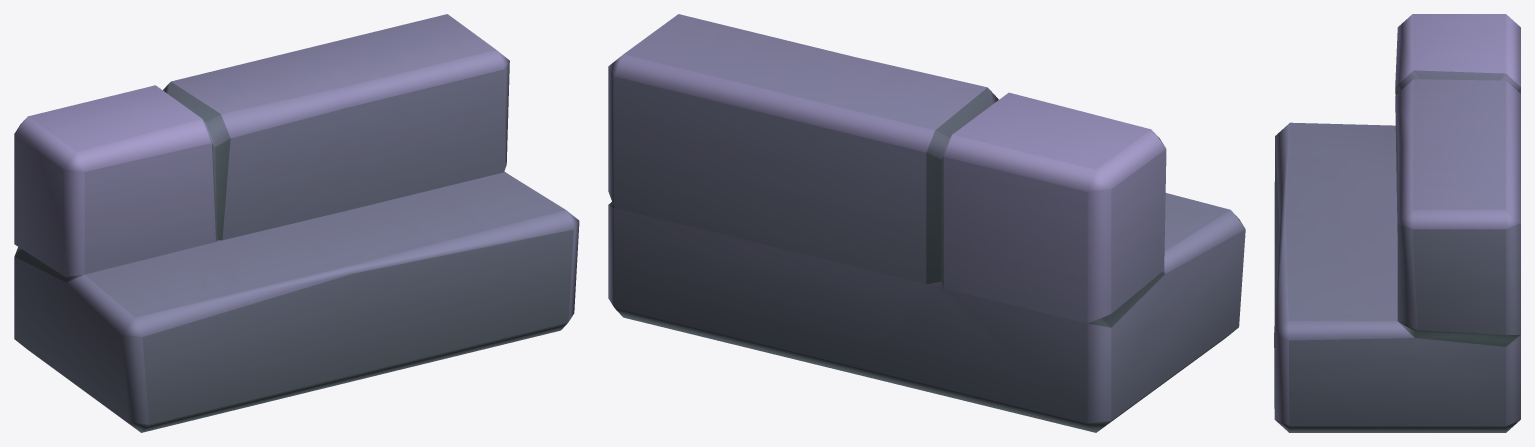
Rendered from undead_stairs_half_2_shade_1.fbx.
3 renders of one model, left to right at view 1: azimuth 30°, elevation 25°; view 2: azimuth 150°, elevation 25°; view 3: azimuth 270°, elevation 25°, orthographic. The views are drawn at different scales.
Parts seen in each view (by area): view 1: undead_stairs_half_2_shade_1; view 2: undead_stairs_half_2_shade_1; view 3: undead_stairs_half_2_shade_1.
Part boxes in pixels (box(x1,y1,x2,y2)): undead_stairs_half_2_shade_1: box(14, 14, 579, 432); undead_stairs_half_2_shade_1: box(608, 14, 1245, 432); undead_stairs_half_2_shade_1: box(1274, 14, 1520, 432).
Bounding box in the file's own units: 1.02 × 0.5051 × 0.501.
